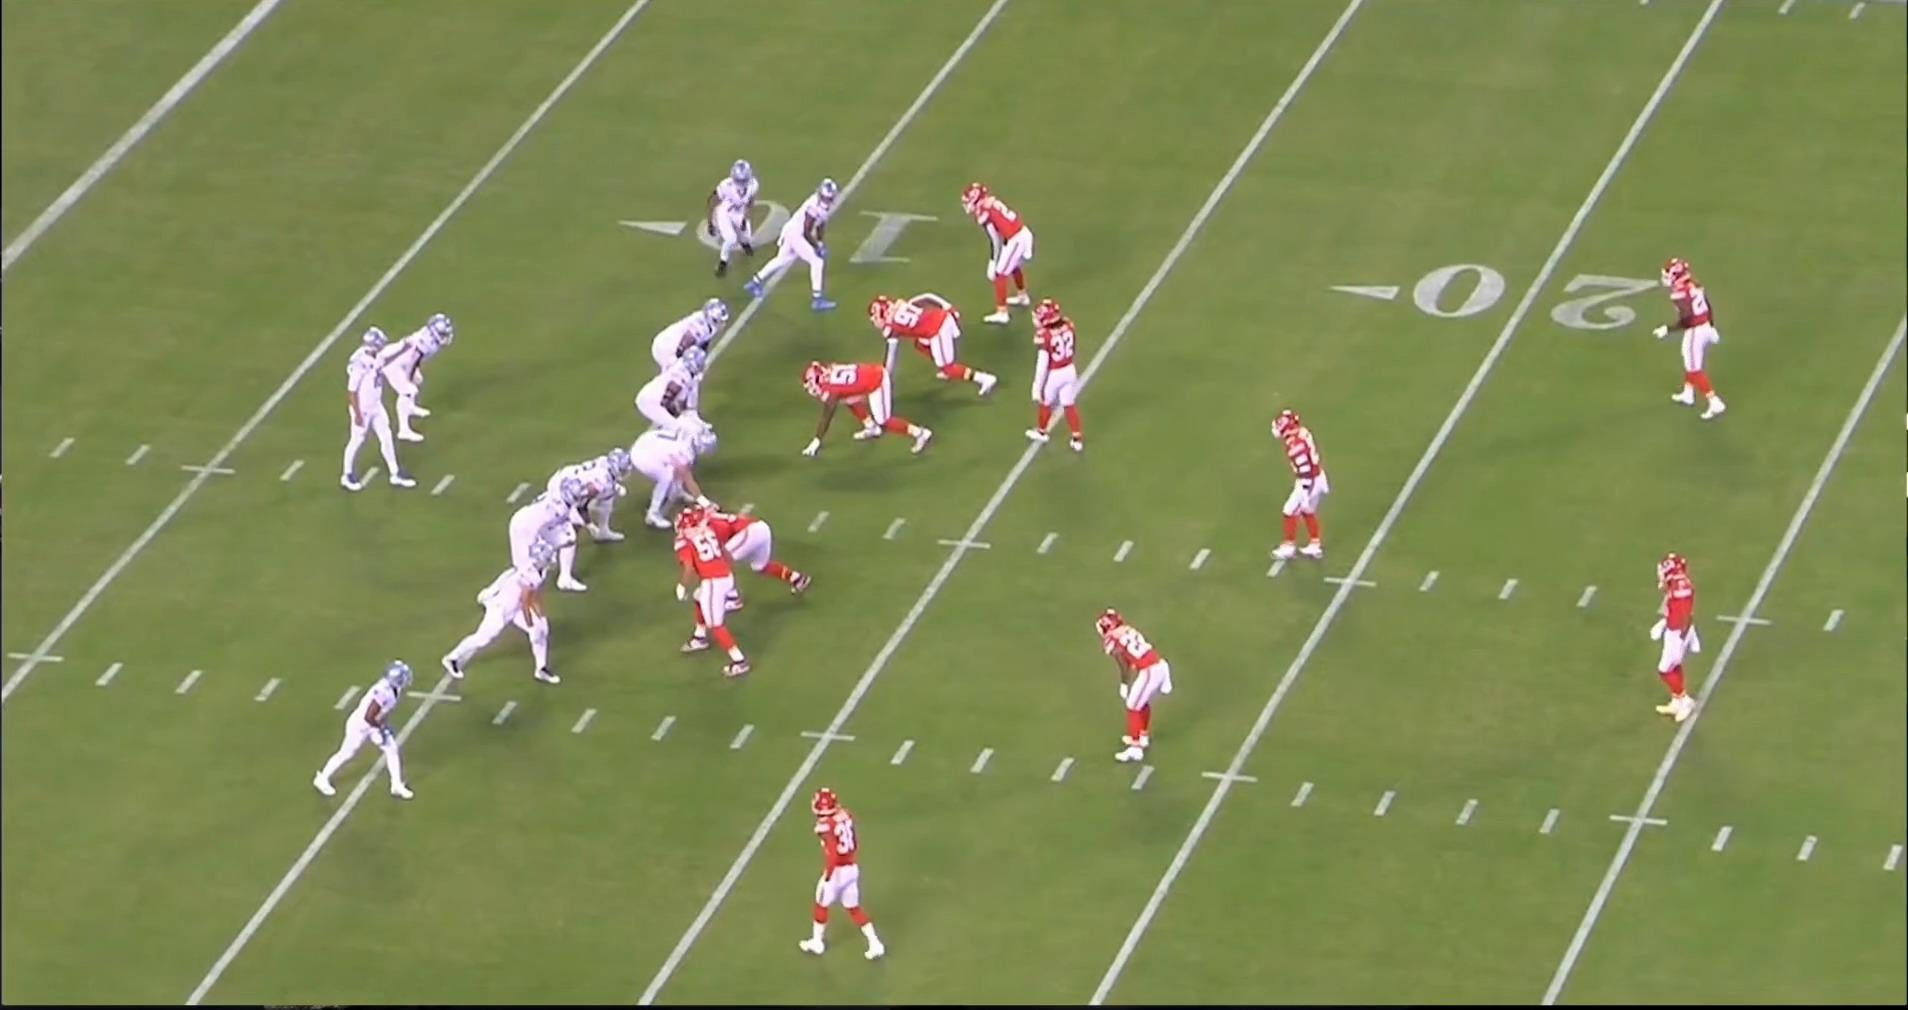player: (446, 542, 573, 689), (304, 654, 419, 806), (797, 783, 890, 963), (326, 330, 415, 501), (742, 176, 851, 315), (864, 287, 1001, 397), (684, 503, 819, 611), (485, 474, 590, 607), (794, 356, 933, 456), (671, 512, 753, 681), (1089, 607, 1167, 769), (1660, 253, 1730, 425), (966, 177, 1043, 329), (1642, 547, 1705, 731), (1021, 293, 1090, 457), (1266, 406, 1333, 570), (542, 444, 633, 564), (655, 295, 740, 423), (620, 425, 714, 539), (379, 312, 455, 447), (696, 153, 767, 286), (635, 346, 717, 444)
